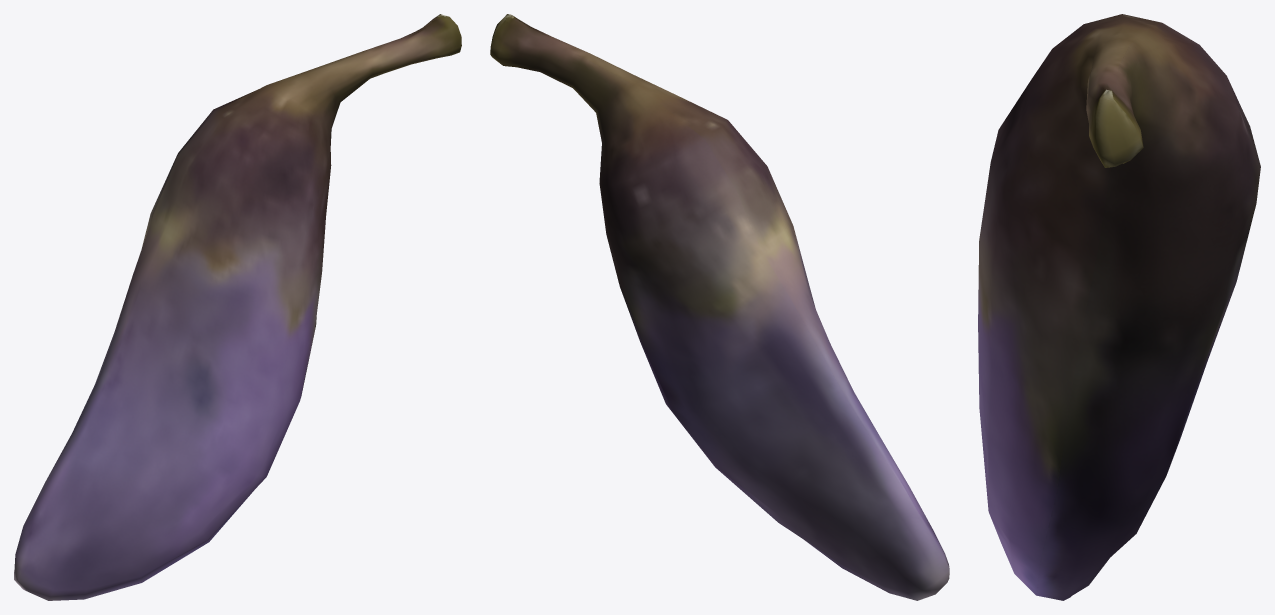
The model's file is wisteriaFlower1.fbx.
3 views of the same model, side by side, from view 1: azimuth 30°, elevation 25°; view 2: azimuth 150°, elevation 25°; view 3: azimuth 270°, elevation 25° (orthographic). The views are drawn at different scales.
Parts seen in each view (by area): view 1: wosteriaflower11; view 2: wosteriaflower11; view 3: wosteriaflower11.
Part boxes in pixels (x1,y1,x2,y2): wosteriaflower11: (14, 14, 461, 600); wosteriaflower11: (490, 14, 949, 600); wosteriaflower11: (978, 14, 1260, 600).
Size of the model in its own units: 0.3141 by 0.3262 by 0.11.
